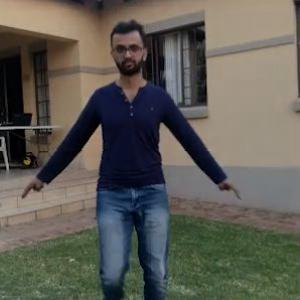land: (70, 65, 200, 289)
